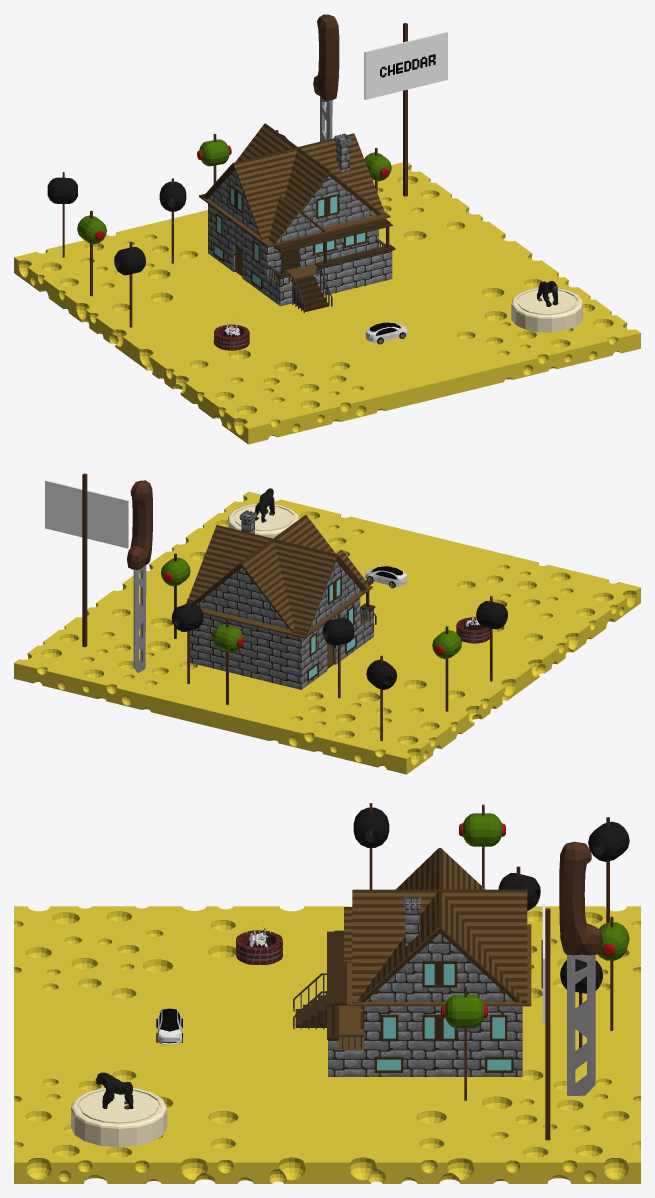
3 renders of one model, top to bottom at view 1: azimuth 30°, elevation 25°; view 2: azimuth 150°, elevation 25°; view 3: azimuth 270°, elevation 25°, orthographic. The views are drawn at different scales.
Parts seen in each view (by area): view 1: Cube.022, Cube.586, Cube.023, Cylinder.016, Cube.024, Sphere.017, Sphere.016, Sphere.020, OBJRANDOM_CAMPFIRE, Sphere.018, Sphere.022, VEHICLES_TESLA (+1 smaller); view 2: Cube.022, Cube.586, Cube.023, Cube.024, Cylinder.016, Sphere.017, Sphere.020, Sphere.021, Sphere.016, Sphere.018, Sphere.022, Sphere.019 (+3 smaller); view 3: Cube.022, Cube.586, Cube.024, Cylinder.016, Cube.023, Sphere.019, Sphere.016, OBJRANDOM_CAMPFIRE, Sphere.018, Sphere.017, Sphere.022, VEHICLES_TESLA (+3 smaller).
Part boxes in pixels (box(x1,y1,x2,y2)): Cube.022: box(14, 162, 640, 444); Cube.586: box(199, 123, 395, 313); Cube.023: box(364, 23, 447, 196); Cylinder.016: box(511, 288, 582, 332); Cube.024: box(313, 14, 339, 141); Sphere.017: box(114, 242, 145, 327); Sphere.016: box(47, 172, 77, 257); Sphere.020: box(159, 178, 186, 263); OBJRANDOM_CAMPFIRE: box(213, 323, 249, 350); Sphere.018: box(77, 210, 106, 296); Sphere.022: box(197, 134, 231, 183); VEHICLES_TESLA: box(365, 322, 407, 344); Cube.022: box(14, 491, 640, 774); Cube.586: box(184, 510, 376, 689); Cube.023: box(45, 473, 128, 647); Cube.024: box(127, 480, 152, 672); Cylinder.016: box(228, 504, 298, 538); Sphere.017: box(476, 596, 507, 681); Sphere.020: box(322, 612, 354, 698); Sphere.021: box(171, 598, 203, 683); Sphere.016: box(366, 655, 397, 741); Sphere.018: box(432, 626, 461, 711); Sphere.022: box(212, 619, 244, 704); Sphere.019: box(160, 553, 190, 638); Cube.022: box(14, 906, 640, 1183); Cube.586: box(293, 848, 531, 1076); Cube.024: box(559, 841, 602, 1095); Cylinder.016: box(71, 1088, 167, 1147); Cube.023: box(541, 904, 550, 1140); Sphere.019: box(441, 986, 487, 1100); Sphere.016: box(588, 817, 629, 922); OBJRANDOM_CAMPFIRE: box(236, 926, 282, 964); Sphere.018: box(459, 804, 505, 888); Sphere.017: box(353, 803, 389, 889); Sphere.022: box(598, 916, 629, 1030); VEHICLES_TESLA: box(156, 1008, 182, 1044).
Bounding box in the file's own units: 3917 × 2007 × 4000.
Materials: 35 (4 with a texture image).
